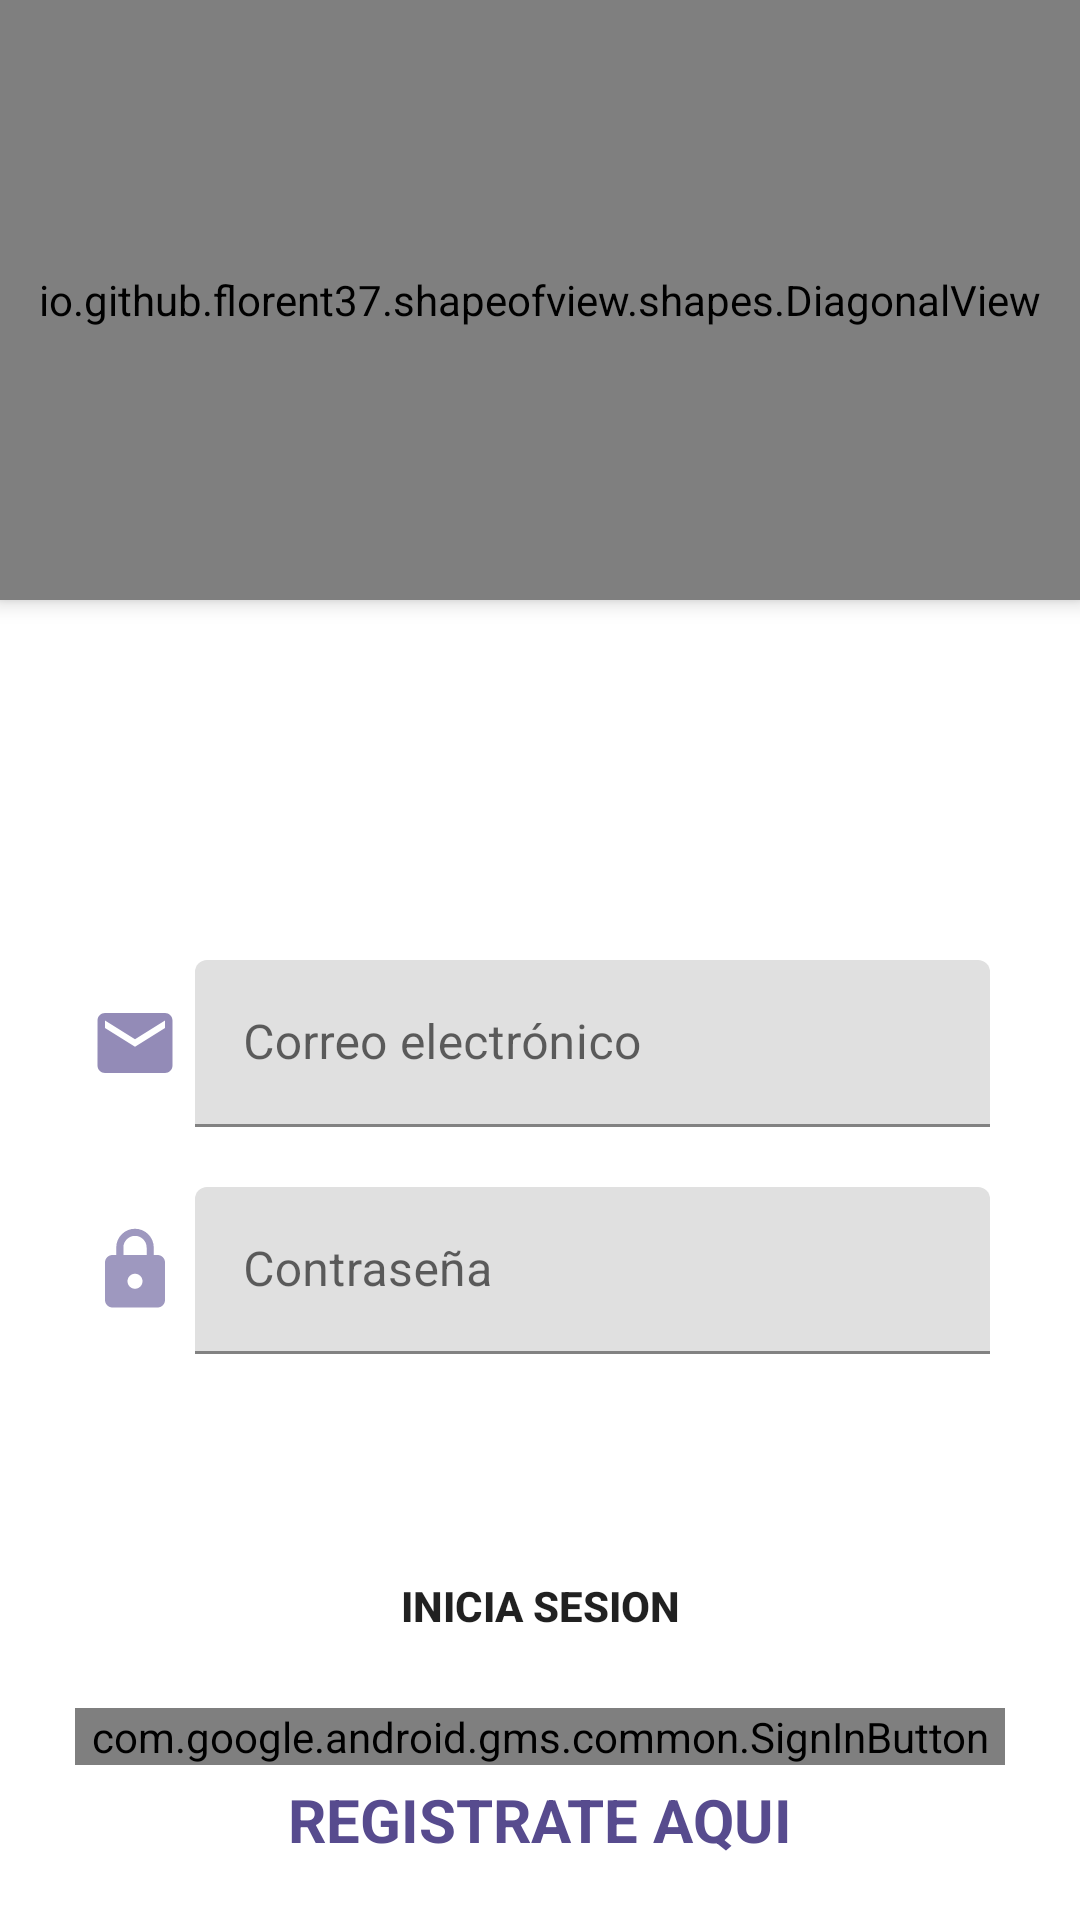

Named icons in this screenshot (1080*1920) and their centers, [x,y]:
email: [135,1043]
lock: [135,1268]
